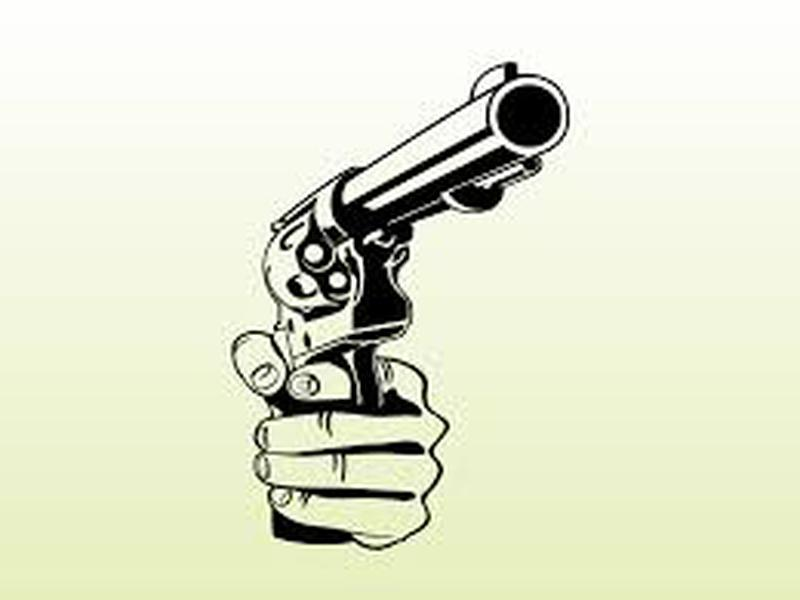gun: (231, 58, 575, 555)
